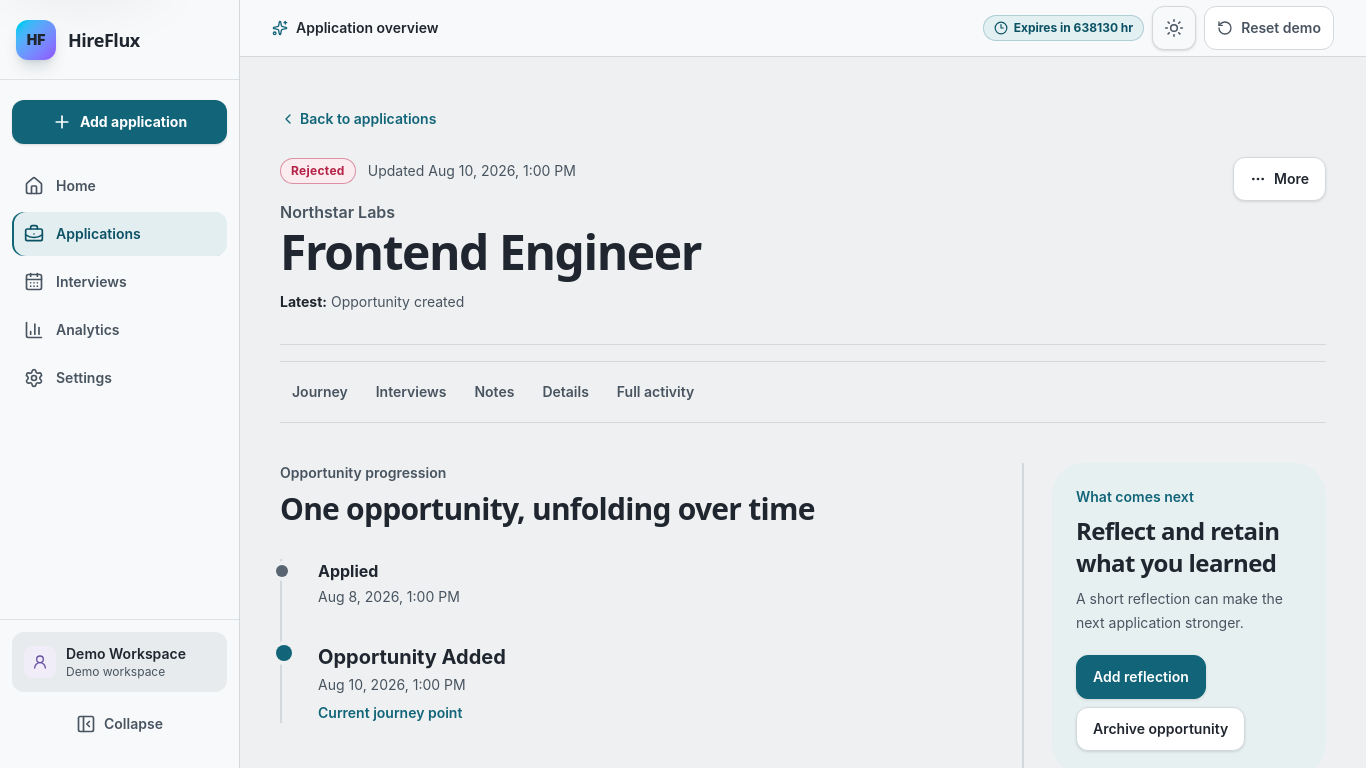
it: adaptive application opportunity workspace › keeps the rejected-to-offer correction in More and sends the observed version
Expected: the heading "Frontend Engineer" is shown, [280, 228, 701, 276]
Click the button with aria-label "More opportunity actions". click: (1280, 179)
box: [1233, 157, 1326, 201]
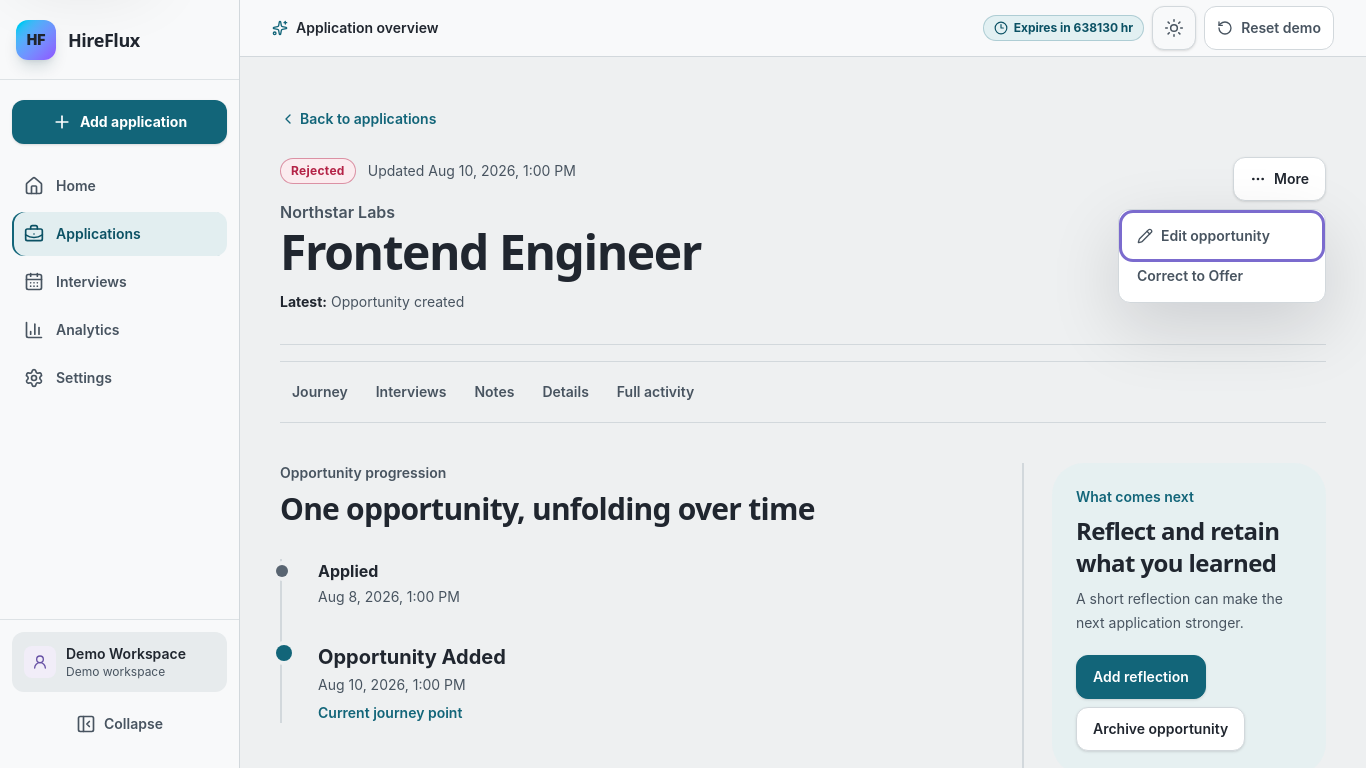
Click the menu item "Correct to Offer". click: (1222, 276)
box: [1125, 256, 1319, 296]
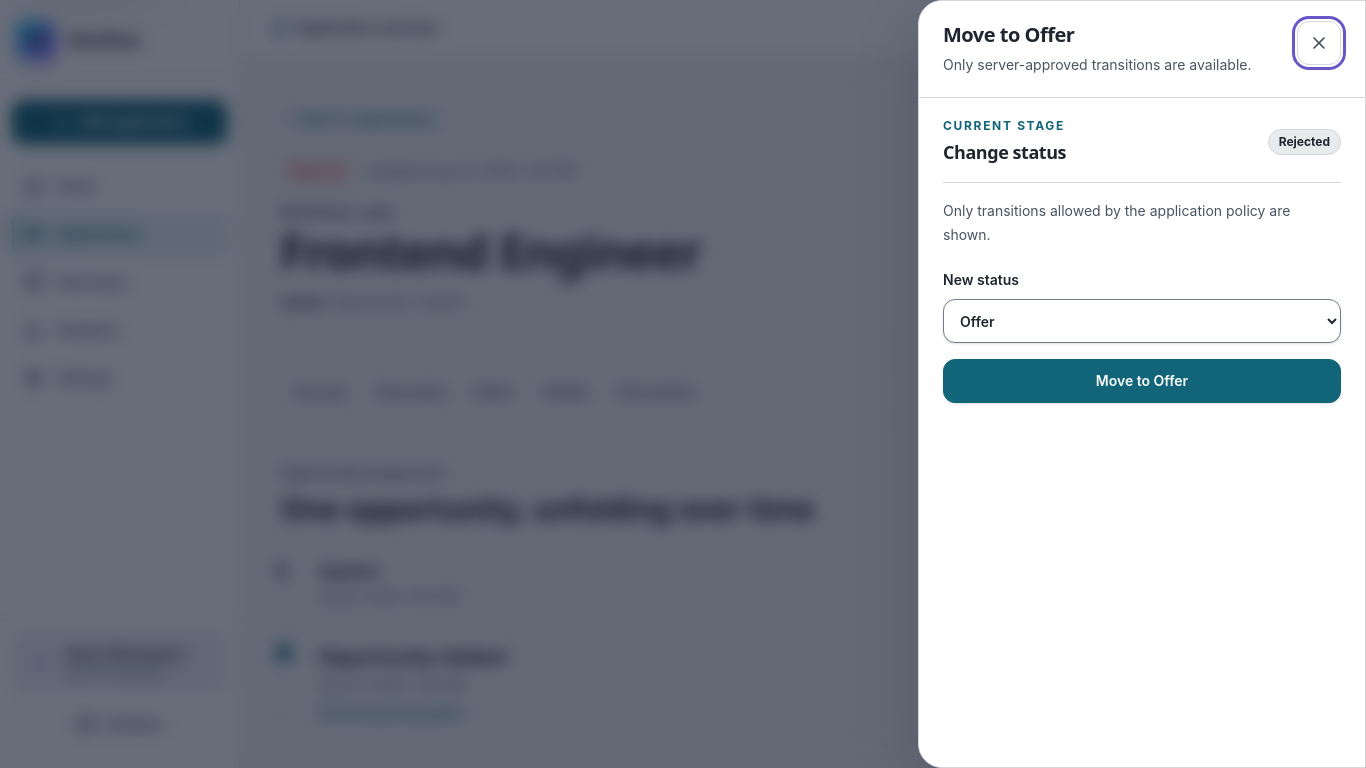
Expected: the dialog "Move to Offer" is shown, [918, 0, 1365, 767]
Click the button "Move to Offer". click: (1142, 381)
box: [943, 359, 1341, 403]
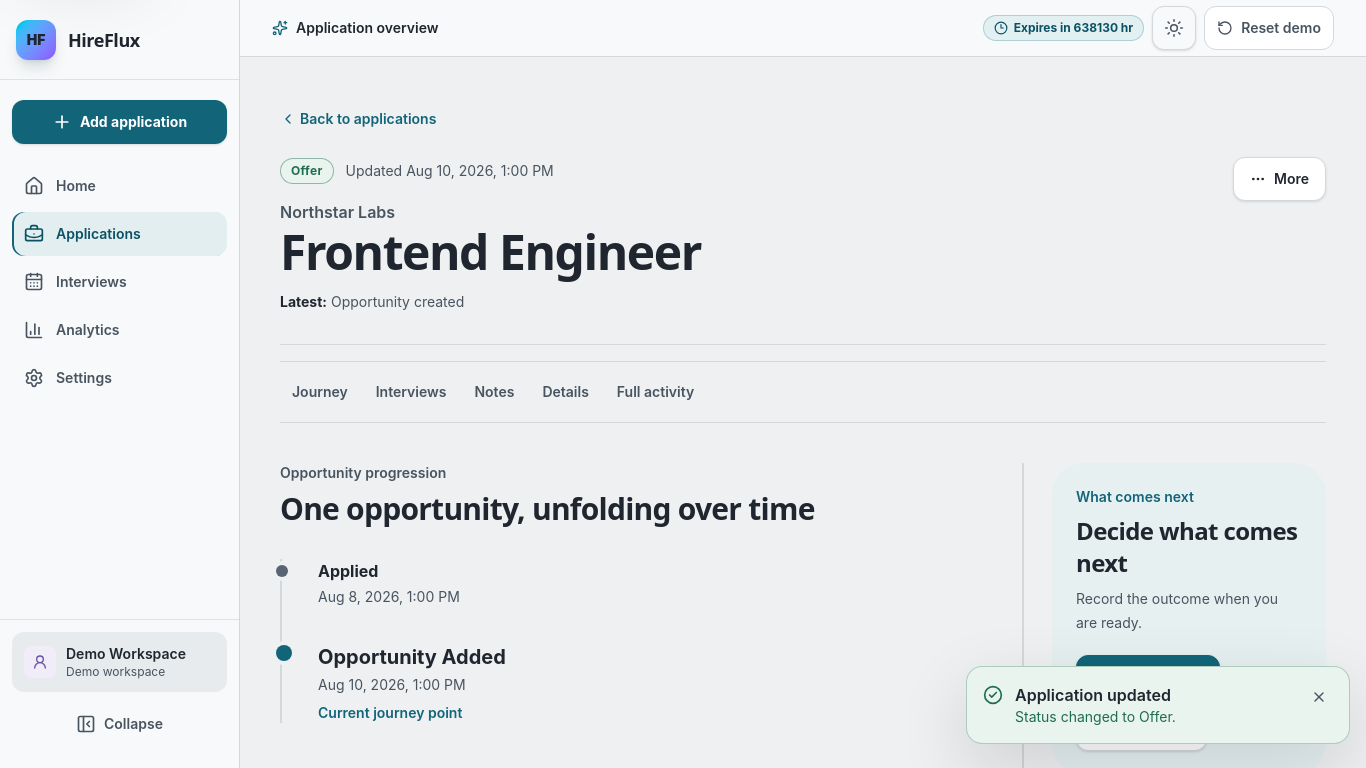
Expected: the text "Status changed to Offer." is shown, [1015, 708, 1176, 725]
